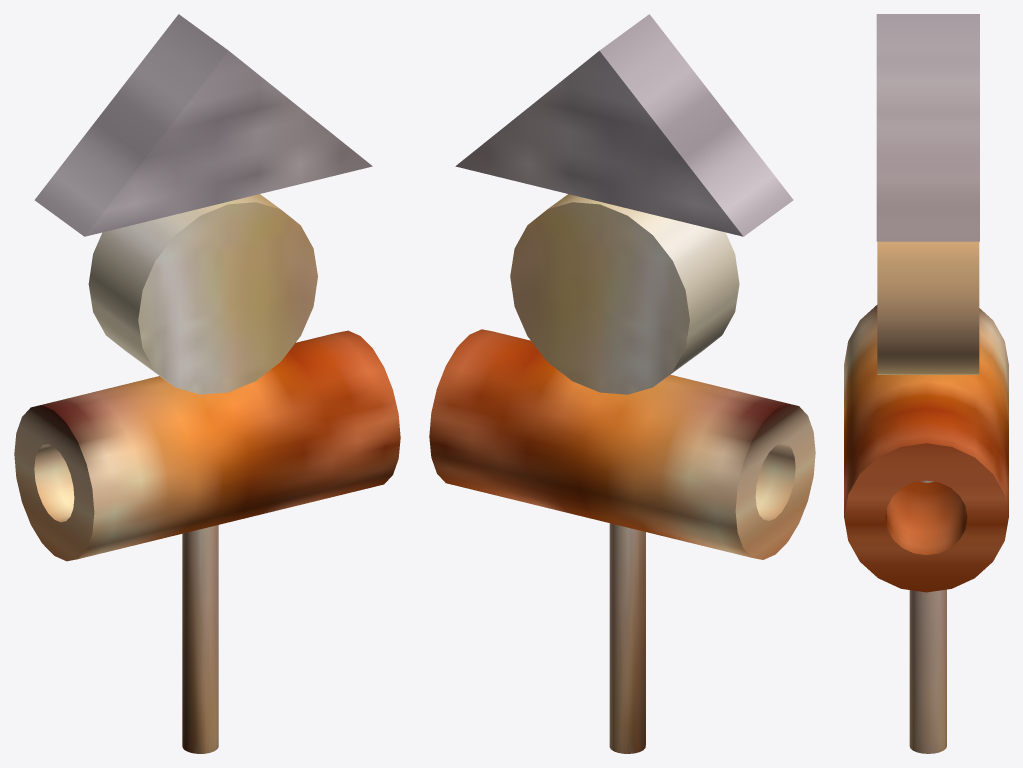
File: oden.fbx
3 views of the same model, side by side, from view 1: azimuth 30°, elevation 25°; view 2: azimuth 150°, elevation 25°; view 3: azimuth 270°, elevation 25° (orthographic). The views are drawn at different scales.
Visible parts, largest first — view 1: pCube2; view 2: pCube2; view 3: pCube2.
Boxes of the visible parts, x1,y1,x2,y2 form: pCube2: (14, 14, 400, 753); pCube2: (429, 14, 815, 753); pCube2: (844, 14, 1008, 753).
Bounding box in the file's own units: 1 × 2.23 × 0.4526.
1 material, 1 textured.
